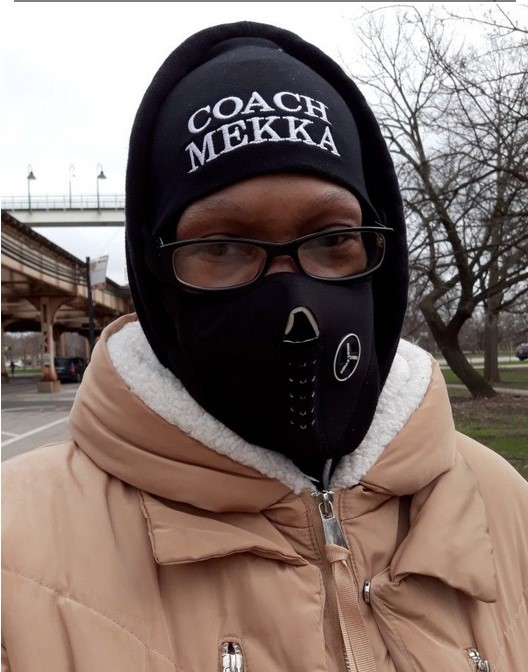face_with_mask: (154, 91, 383, 448)
